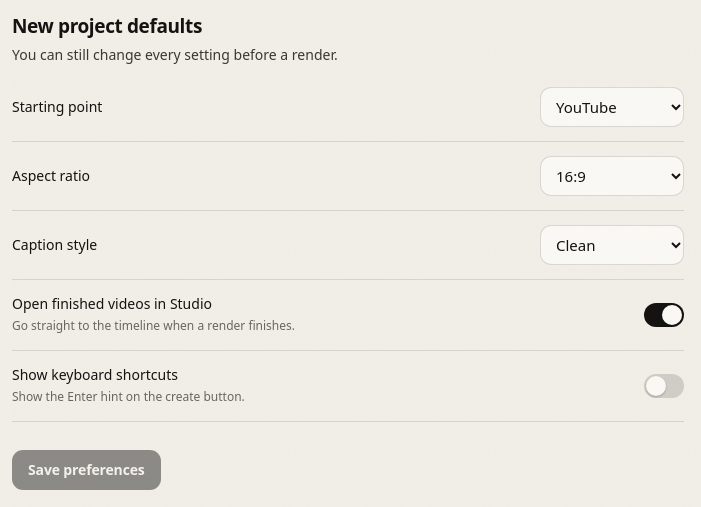
Scenario: Preferences preserves an unsaved choice when saving fails
This screenshot has width=701, height=507.
Select "Create" in the dropdown labelled "Starting point". click: (612, 106)
box: [540,86,684,126]
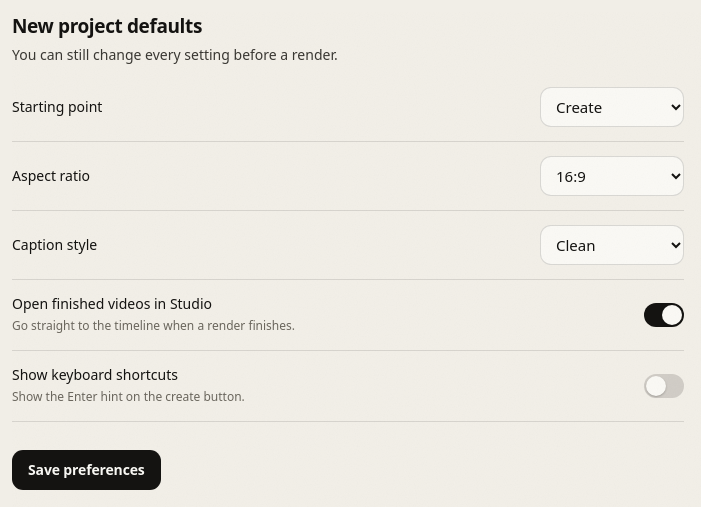
Click the button "Save preferences". click: (86, 470)
box: [12,450,161,490]
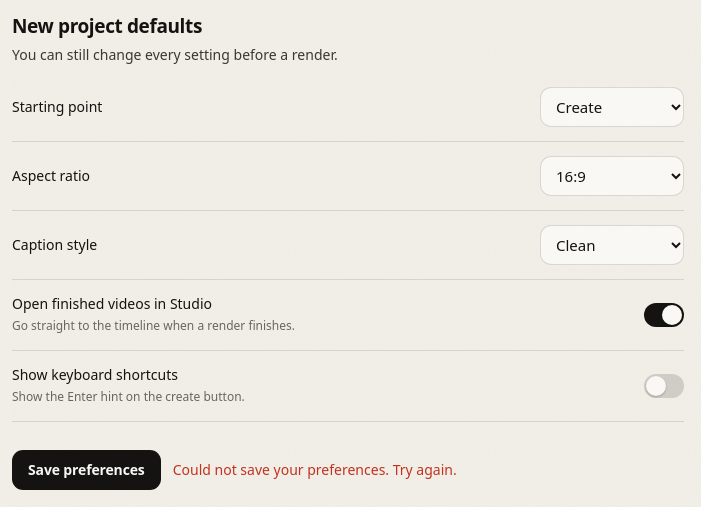
expect the button "Save preferences" is enabled: met, box [12,450,161,490]
expect the message reads "Could not save your preferences. Try again.": met, box [173,460,457,478]
